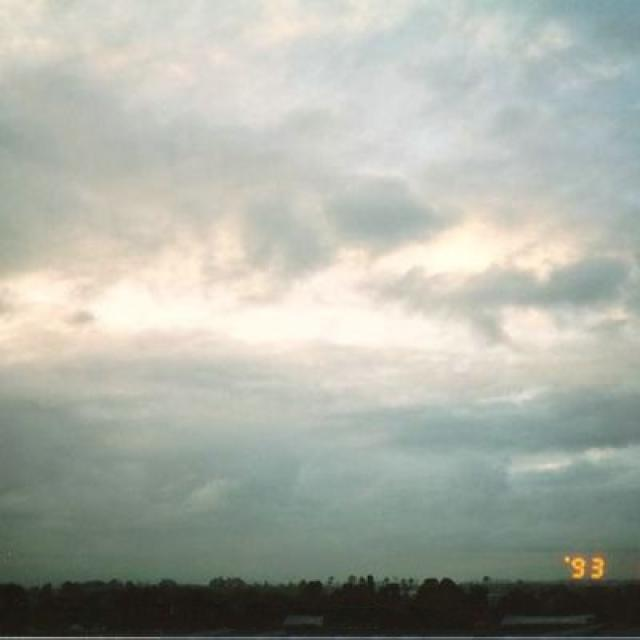Sc: (1, 12, 640, 519)
